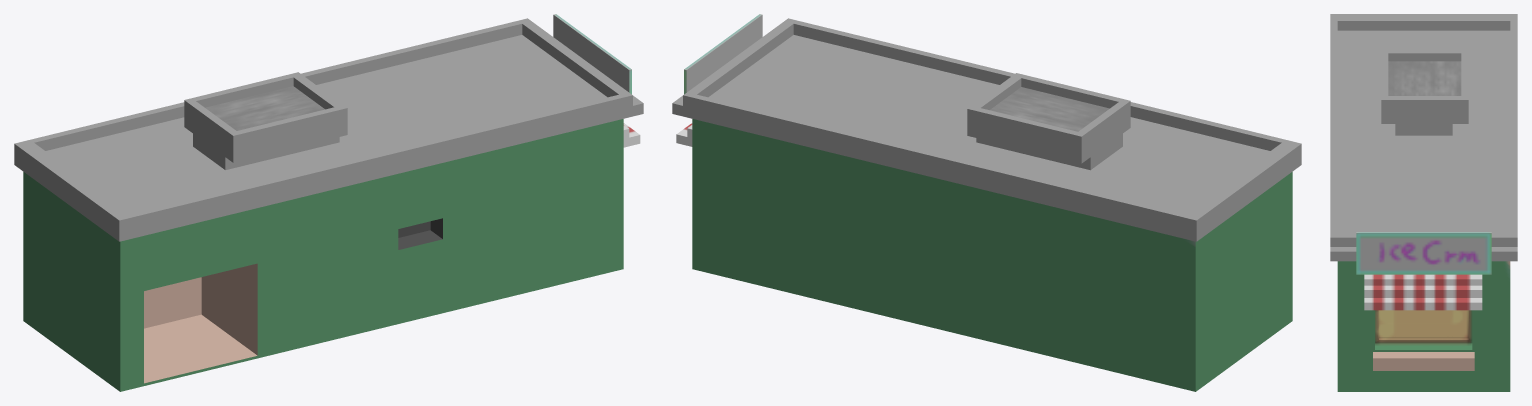
Rendered from smallShop.obj.
3 views of the same model, side by side, from view 1: azimuth 30°, elevation 25°; view 2: azimuth 150°, elevation 25°; view 3: azimuth 270°, elevation 25° (orthographic). The views are drawn at different scales.
Parts seen in each view (by area): view 1: Cube; view 2: Cube; view 3: Cube.
Boxes of the visible parts, x1=… form: Cube: x1=14, y1=14, x2=643, y2=391; Cube: x1=672, y1=14, x2=1301, y2=391; Cube: x1=1330, y1=14, x2=1517, y2=391.
Bounding box in the file's own units: 16.09 × 5.82 × 5.42.
1 material, 1 textured.
